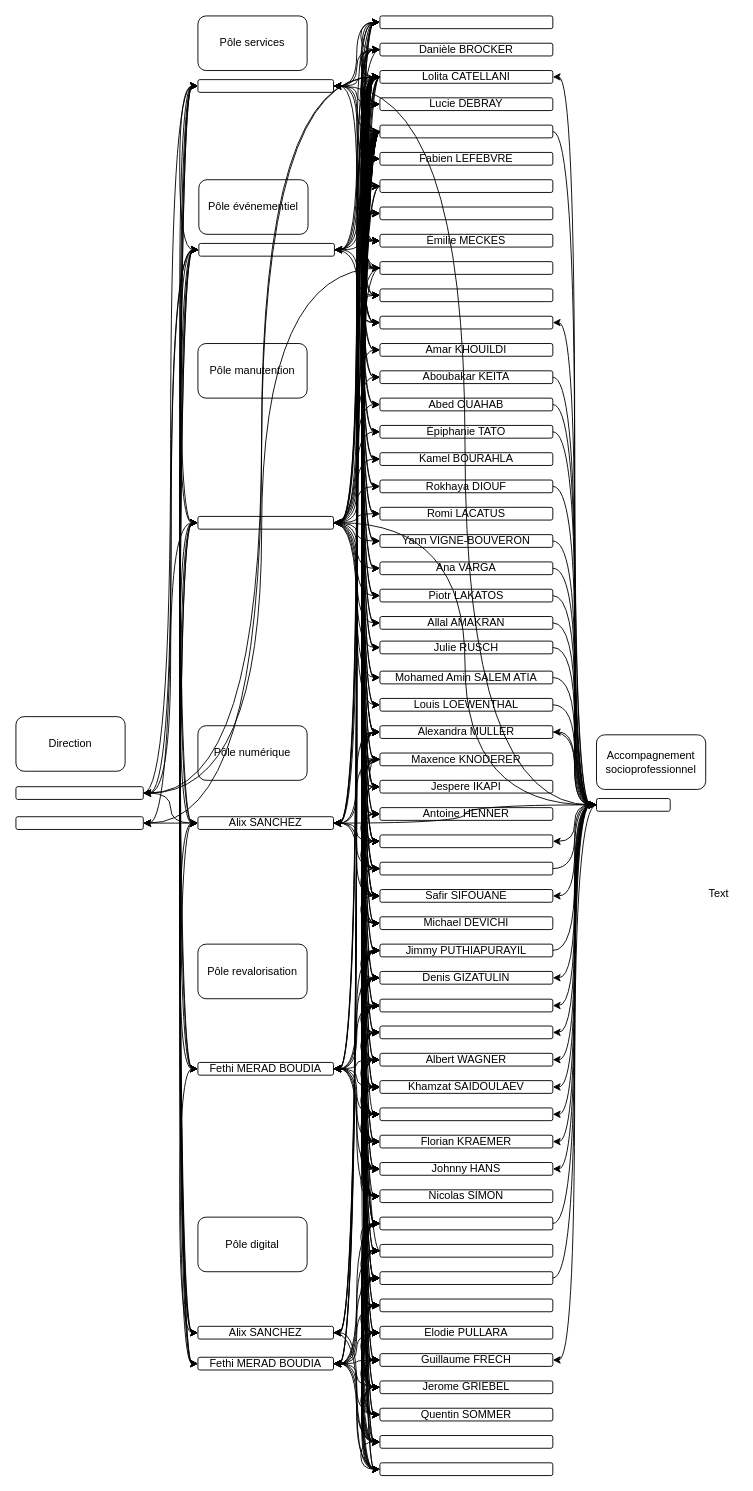
Some shapes in this 753 by 1491 pixel diagram are drawn without their labels. Each missing label, with the box of its shape:
Amal ISSAOUI: (197, 79, 334, 92)
Béatrice SAALI: (379, 15, 553, 29)
Camille REZRAZI: (379, 179, 553, 192)
Caroline VIX: (596, 798, 670, 811)
Claude PROD'HON: (379, 1298, 553, 1312)
David DURNA: (379, 834, 553, 848)
Emmanuelle HETTIG: (379, 206, 553, 220)
Frederic FLEISCH: (379, 1271, 553, 1284)
Gregory KOENIG: (379, 1216, 553, 1230)
Guillaume CAPTUS: (379, 1435, 553, 1448)
Julienne ROSE: (379, 261, 553, 274)
Kamran YEKRANGI: (15, 786, 143, 799)
Kevin HILD: (379, 1025, 553, 1039)
Loïc DOTT: (379, 1244, 553, 1257)
Lucas HOLZMANN: (379, 998, 553, 1012)
Makhamdi BASHAEV: (379, 1107, 553, 1121)
Manon ALTHUSER: (198, 243, 334, 256)
Martial GRAUSS: (379, 861, 553, 875)
Michel ESCARGUEL: (197, 516, 334, 529)
Mora JEAN-MARIE: (379, 315, 553, 329)
Mourad RAHMOUNE: (15, 816, 143, 829)
Remy DEIDIER: (379, 1462, 553, 1476)
Sébastien FISCHER: (379, 288, 553, 302)
Viviane MAMCARZ: (379, 124, 553, 138)
